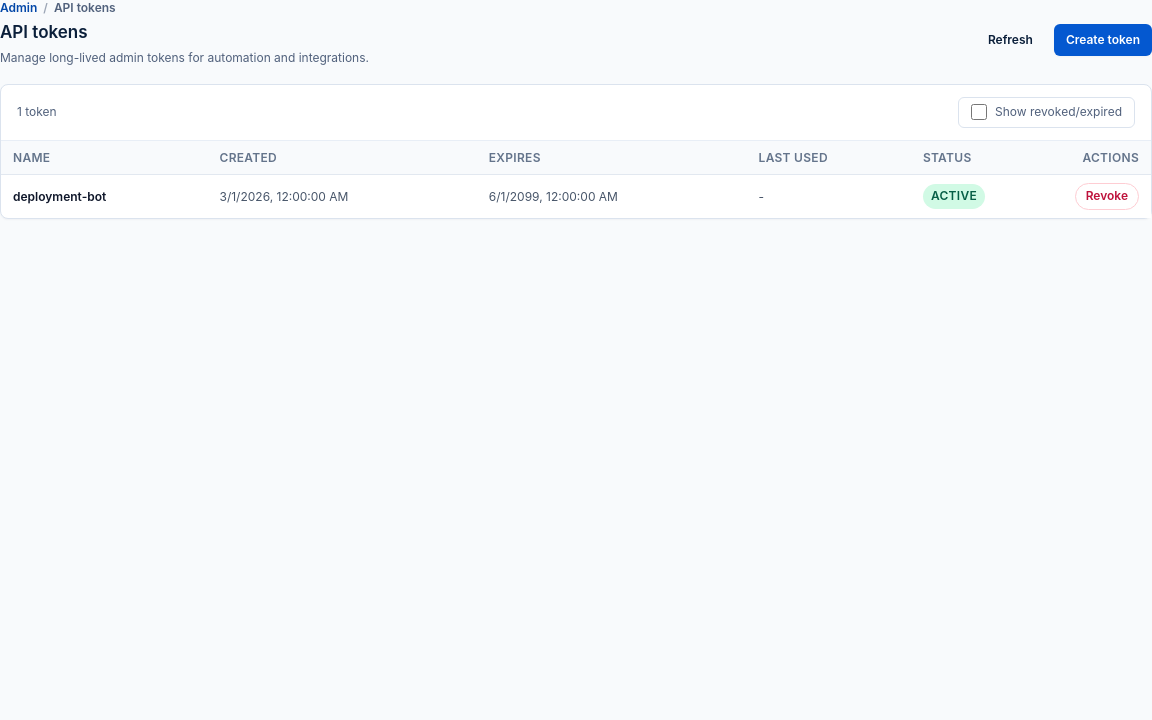
Test: ApiTokensPage list states › does not wrap defensive token revocation in passkey verification
Expected: the text "deployment-bot" is shown, [1, 175, 208, 218]
Step 1. Click the button "Revoke" → [1107, 196], box [1075, 183, 1139, 210]
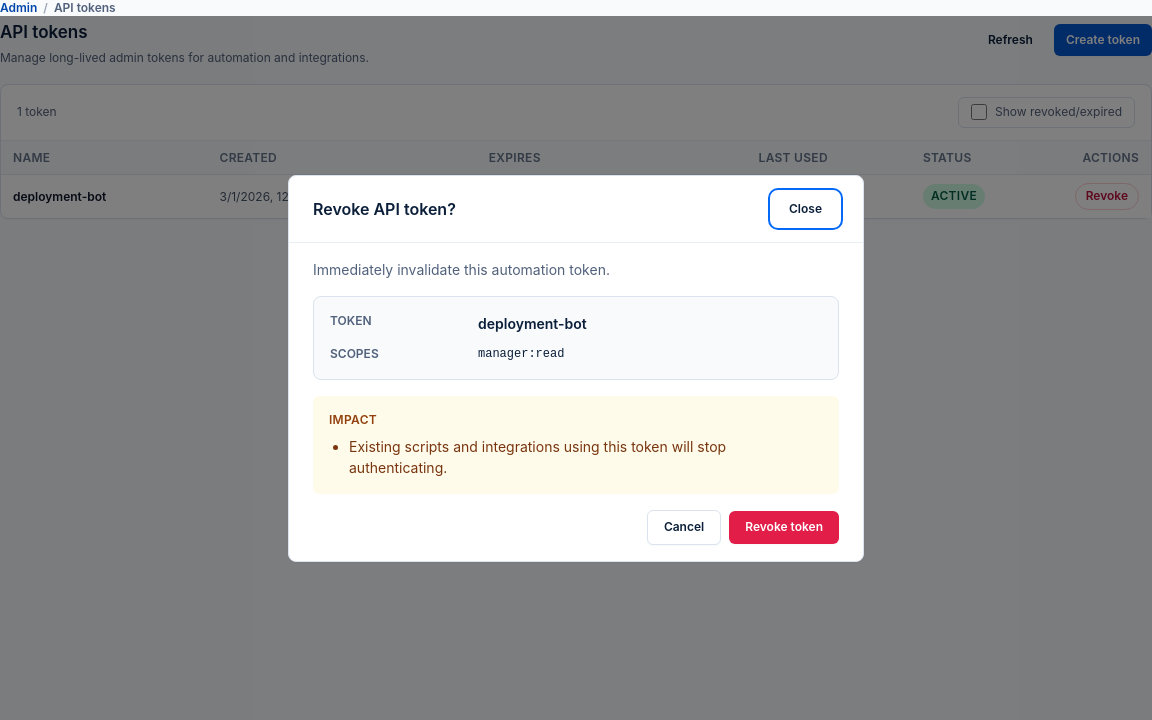
Step 2. Click the button "Revoke token" → [784, 527], box [729, 511, 839, 544]
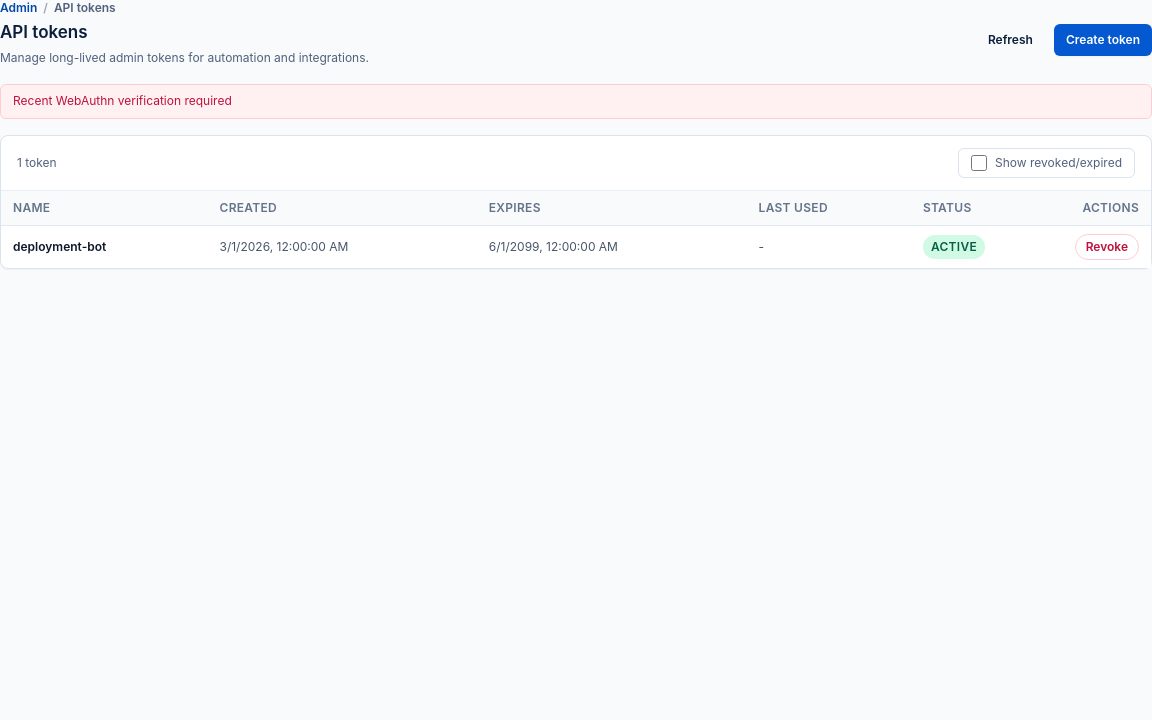
Expected: the text "Recent WebAuthn verification required" is shown, [0, 84, 1151, 118]
